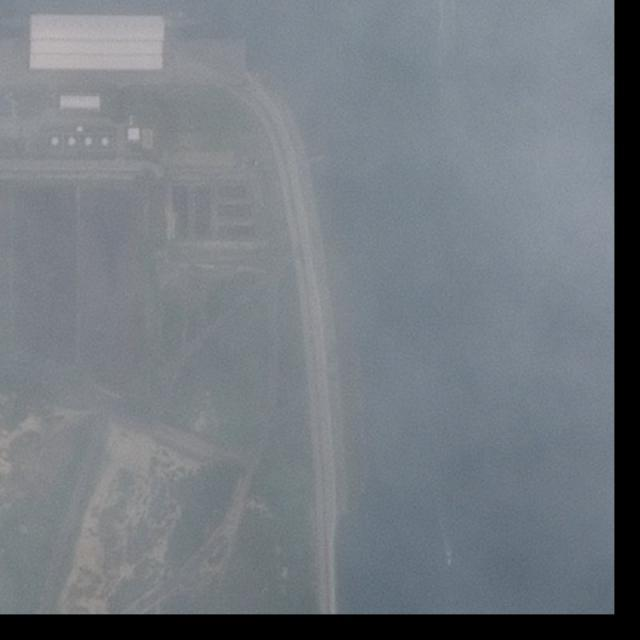ship: (446, 552, 454, 567)
